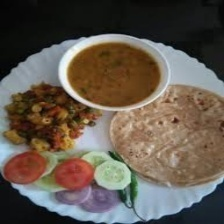roti: (108, 83, 224, 183)
